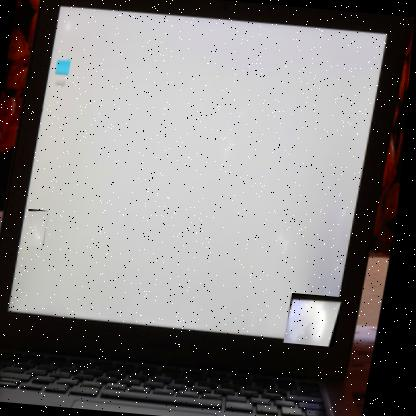spot: (288, 293, 348, 348), (25, 209, 53, 248)
